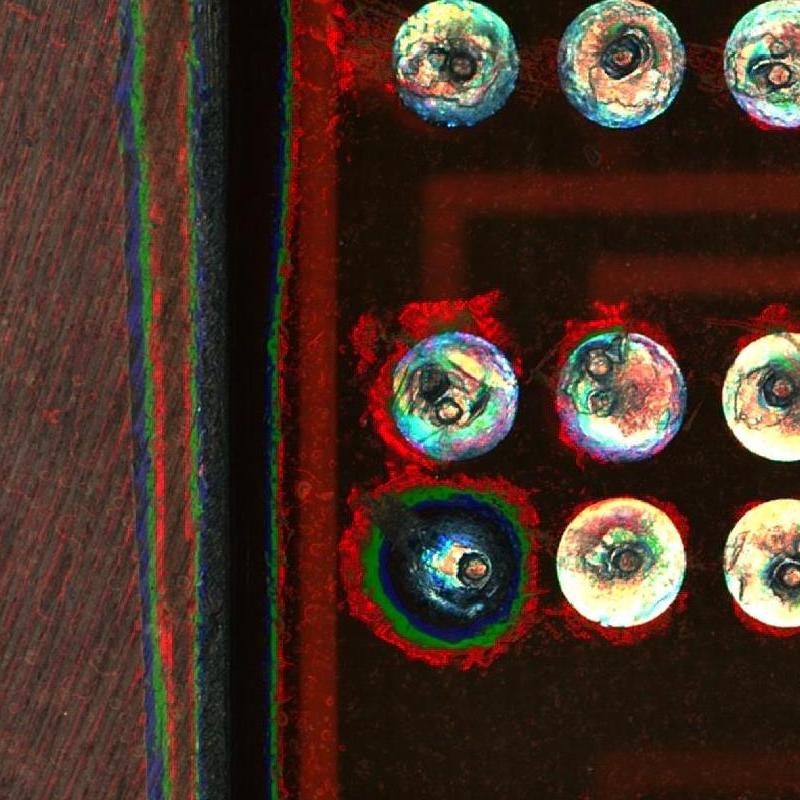bad: (348, 296, 528, 472), (537, 298, 694, 479), (547, 492, 703, 657), (551, 1, 692, 168), (378, 1, 525, 144), (701, 473, 800, 651), (714, 300, 800, 488), (715, 5, 800, 153)
